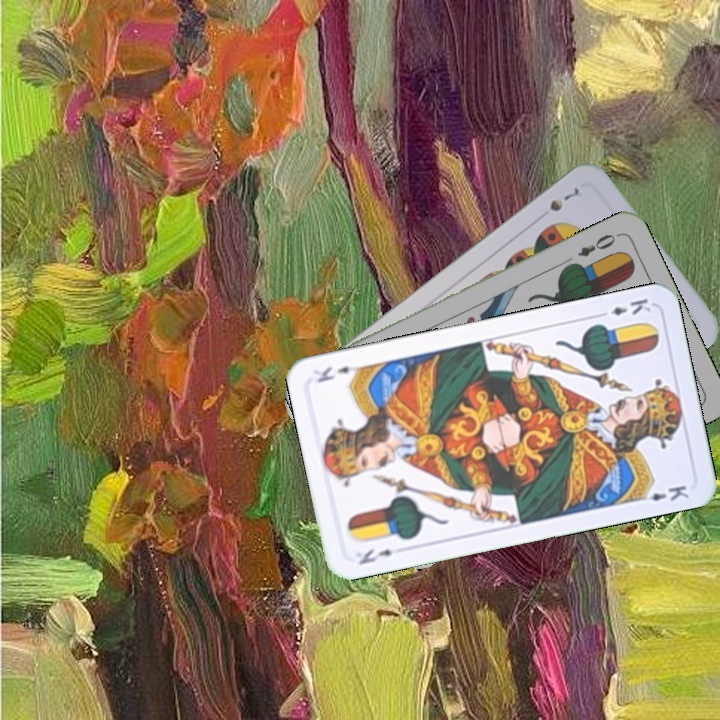EK: (594, 294, 654, 320), (355, 544, 395, 568)
EO: (574, 229, 622, 260)
S7: (545, 181, 585, 215)
